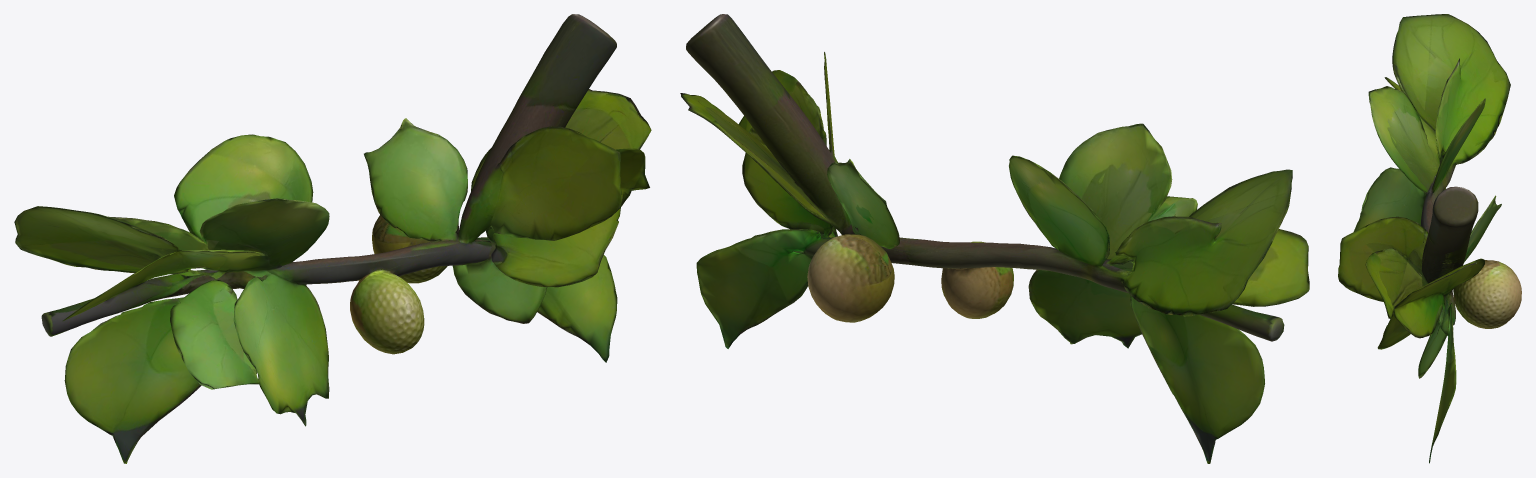
File: Diospyrosborneensis.fbx
The picture shows the model from 3 angles, left to right: view 1: azimuth 30°, elevation 25°; view 2: azimuth 150°, elevation 25°; view 3: azimuth 270°, elevation 25°; orthographic projection. The views are drawn at different scales.
Visible parts, largest first — view 1: Mesh_0; view 2: Mesh_0; view 3: Mesh_0.
Boxes of the visible parts, left/top/right/bottom form: Mesh_0: left=14, top=14, right=651, bottom=463; Mesh_0: left=680, top=14, right=1309, bottom=463; Mesh_0: left=1338, top=14, right=1521, bottom=463.
Size of the model in its own units: 1.99 by 1.08 by 0.6585.
Materials: 1 (1 with a texture image).
